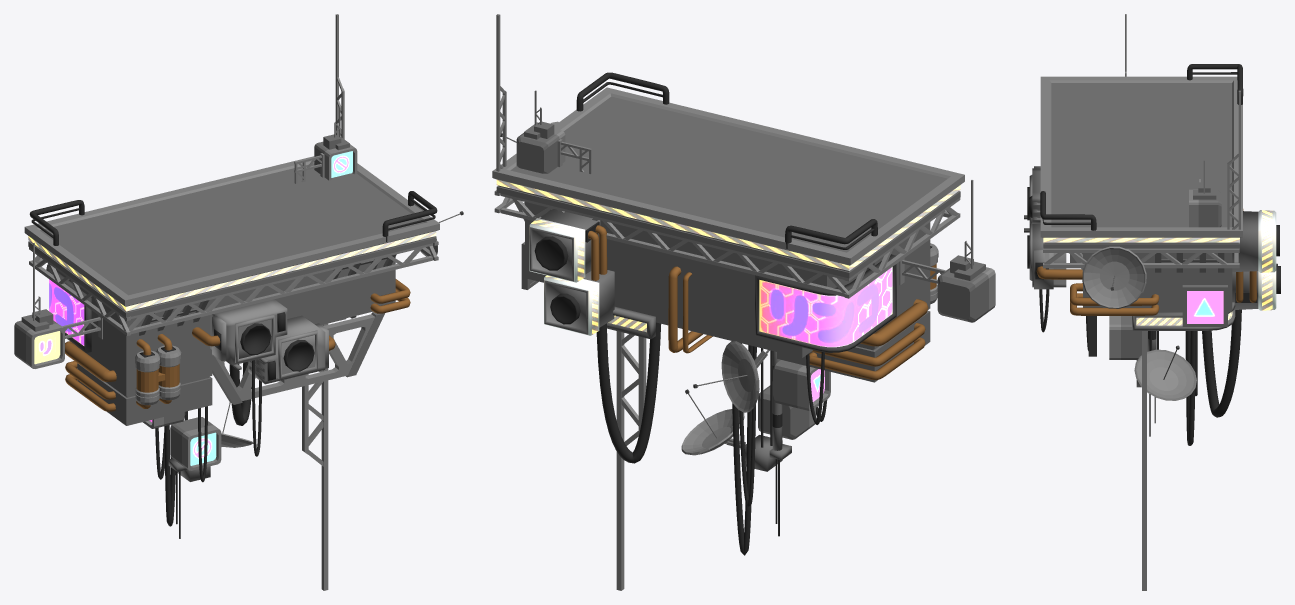
Rendered from Platform_4x2.glb.
3 views of the same model, side by side, from view 1: azimuth 30°, elevation 25°; view 2: azimuth 150°, elevation 25°; view 3: azimuth 270°, elevation 25° (orthographic). The views are drawn at different scales.
Visible parts, largest first — view 1: Platform_4x2; view 2: Platform_4x2; view 3: Platform_4x2.
Boxes of the visible parts, x1=… form: Platform_4x2: x1=14, y1=14, x2=463, y2=590; Platform_4x2: x1=492, y1=14, x2=995, y2=590; Platform_4x2: x1=1024, y1=14, x2=1280, y2=590.
Bounding box in the file's own units: 5.32 × 6.16 × 2.71.
